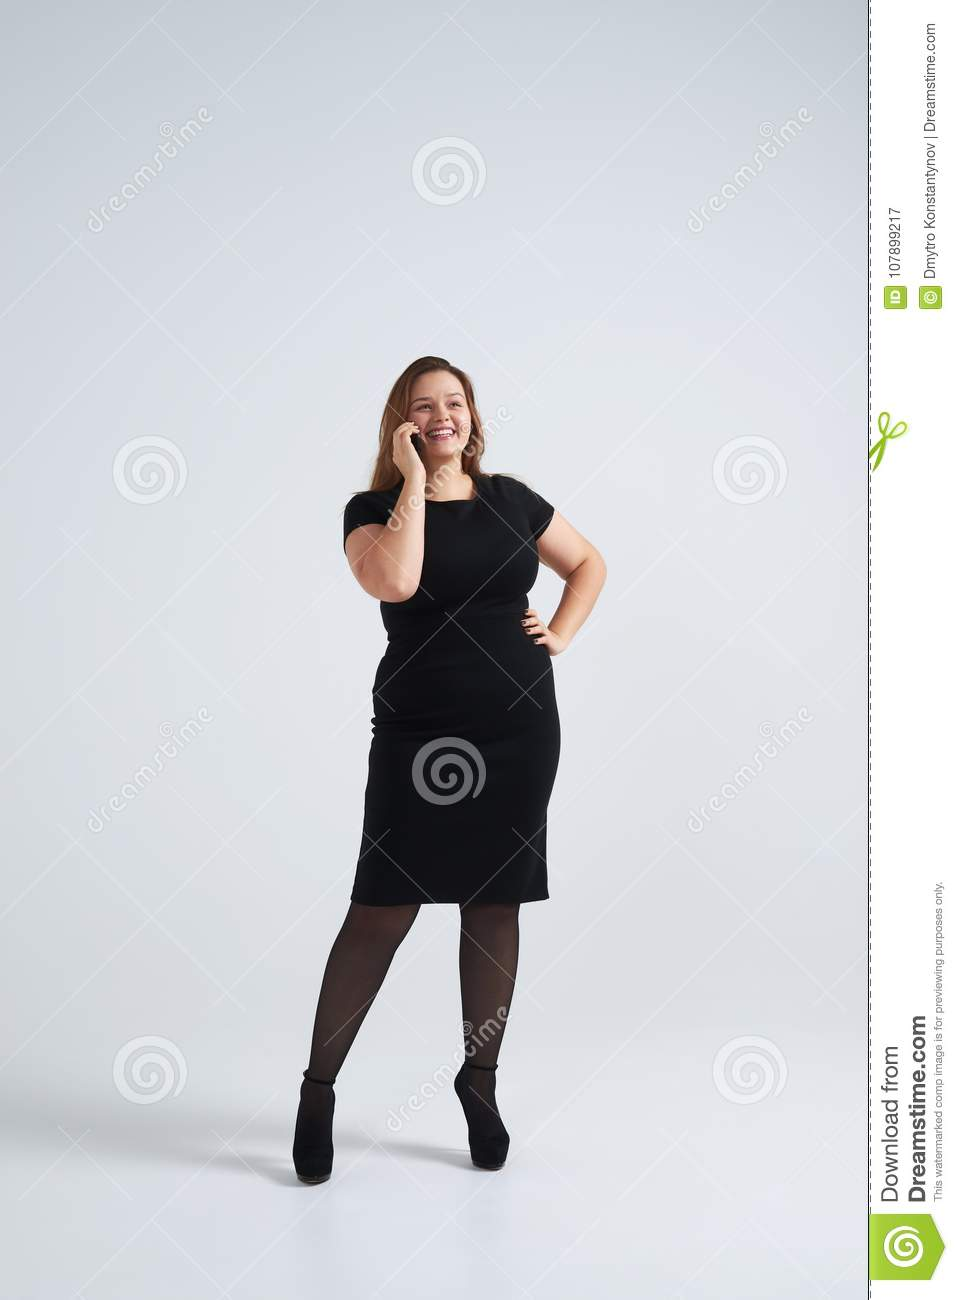talk: (390, 387, 470, 488)
